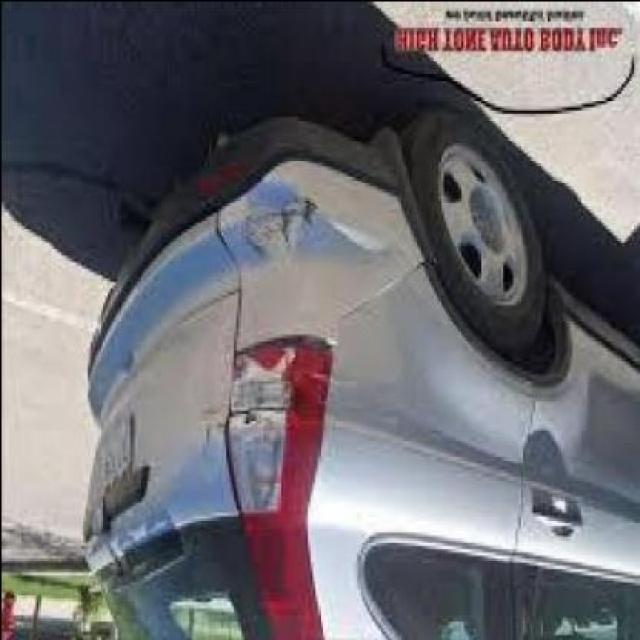damage: (318, 234, 439, 356), (198, 329, 301, 462), (239, 182, 326, 262)
